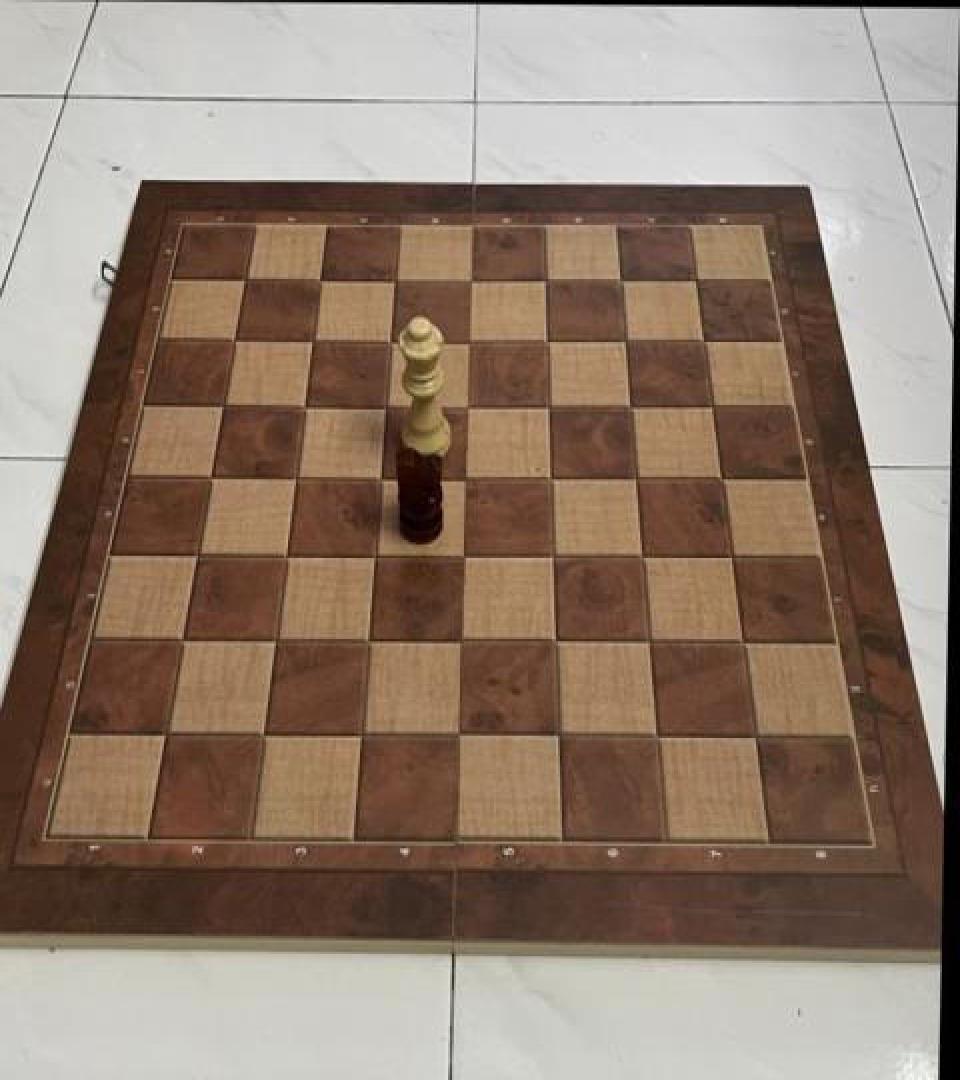xcorner: (679, 264, 713, 302), (604, 264, 638, 302), (529, 264, 563, 302), (454, 262, 488, 300), (379, 262, 413, 300), (304, 261, 338, 299), (230, 261, 264, 299), (687, 324, 721, 362), (609, 324, 643, 362), (531, 323, 565, 361), (453, 322, 487, 360), (375, 322, 409, 360), (297, 321, 331, 359), (219, 321, 253, 359), (695, 390, 729, 428), (614, 388, 648, 426), (533, 388, 567, 426), (451, 387, 485, 425), (370, 387, 404, 425), (289, 386, 323, 424), (208, 385, 242, 423), (705, 460, 739, 498), (620, 459, 654, 497), (535, 459, 569, 497), (450, 458, 484, 496), (365, 457, 399, 495), (280, 457, 314, 495), (195, 456, 229, 494), (715, 538, 749, 576), (626, 537, 660, 575), (537, 536, 571, 574), (448, 536, 482, 574), (359, 534, 393, 572), (270, 534, 304, 572), (182, 534, 216, 572), (726, 624, 760, 662), (633, 622, 667, 660), (539, 621, 573, 659), (446, 620, 480, 658), (353, 620, 387, 658), (260, 619, 294, 657), (167, 618, 201, 656), (739, 717, 773, 755), (640, 716, 674, 754), (542, 714, 576, 752), (444, 714, 478, 752), (346, 714, 380, 752), (248, 712, 282, 750), (150, 711, 184, 749)
